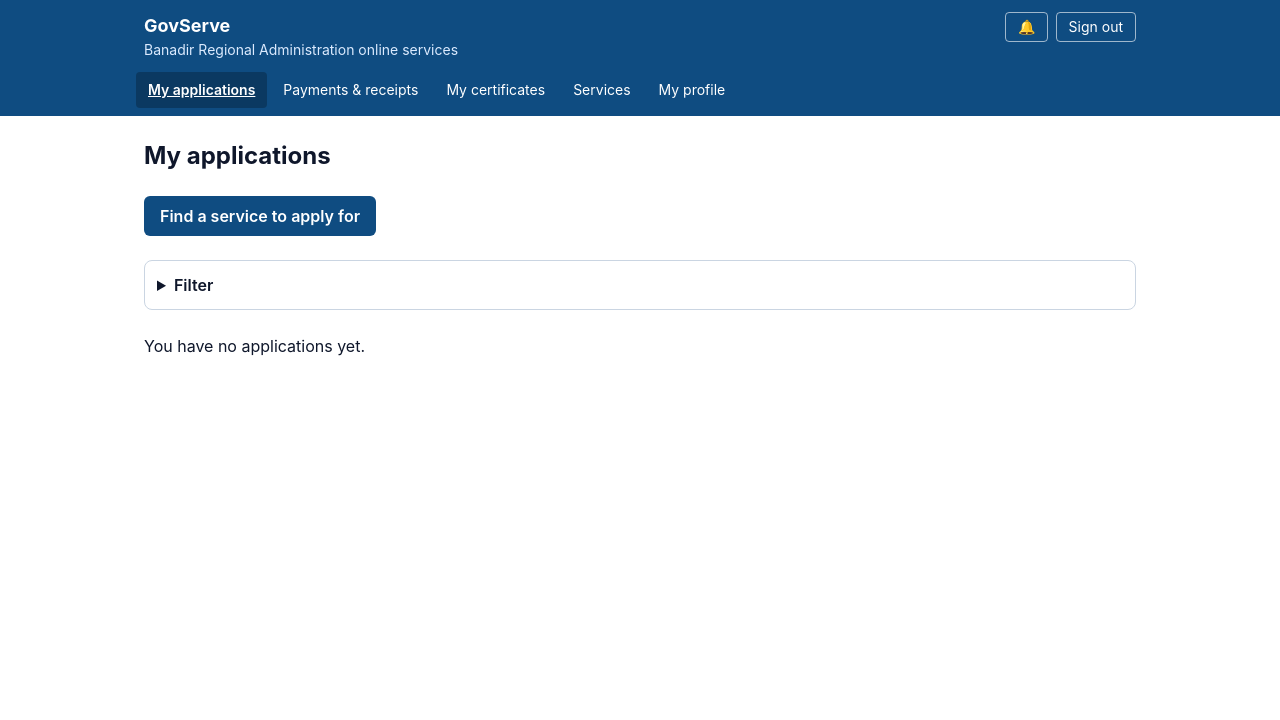
Test: citizen history › should filter my applications by status
Expected: the text "You have no applications yet." is shown, [144,336,365,356]
Click the heading "Filter". click: [194, 285]
box: [174,275,213,295]
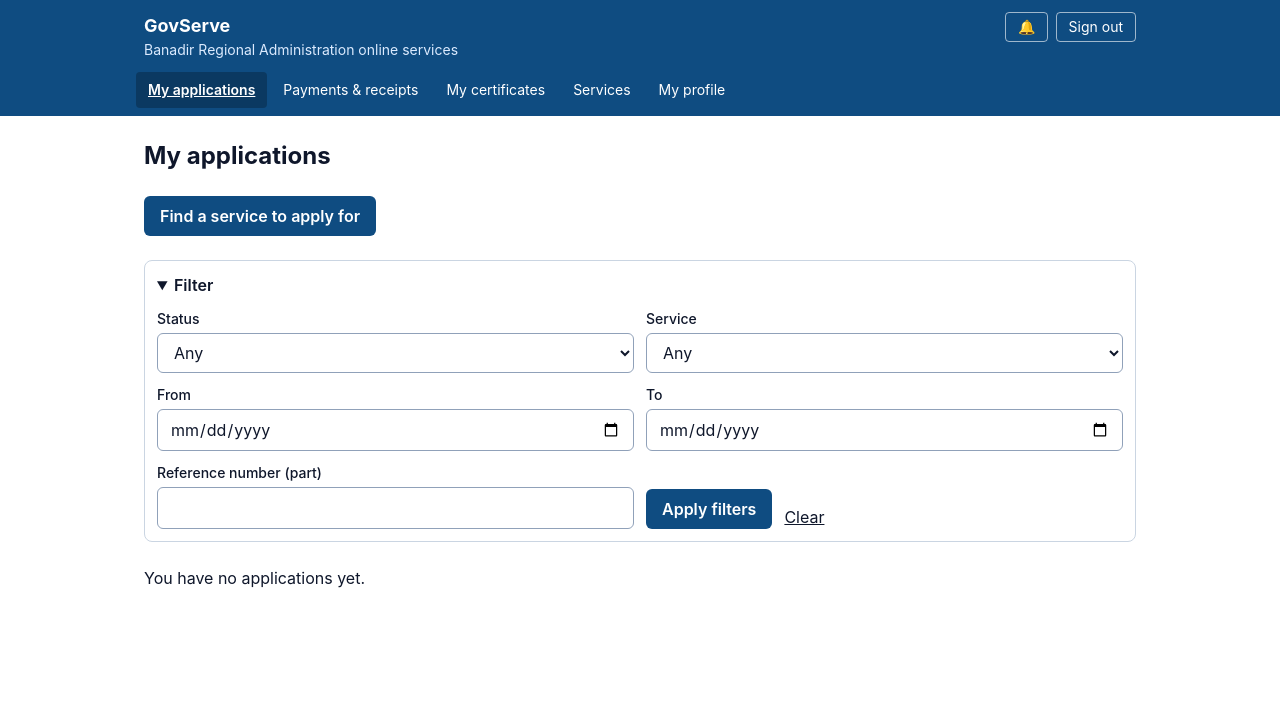
Select "Certificate issued" in the dropdown labelled "Status". click: [396, 353]
box: [157,333,634,373]
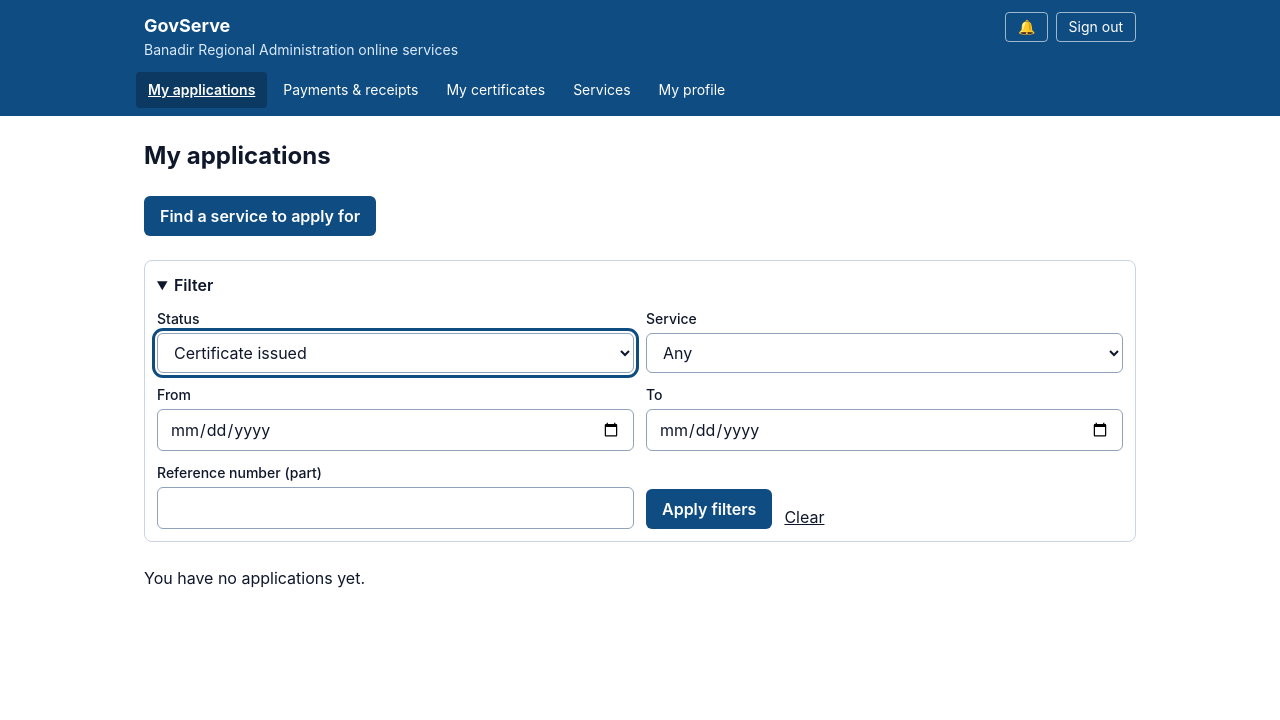
Click the button "Apply filters". click: [709, 509]
box: [646,489,772,529]
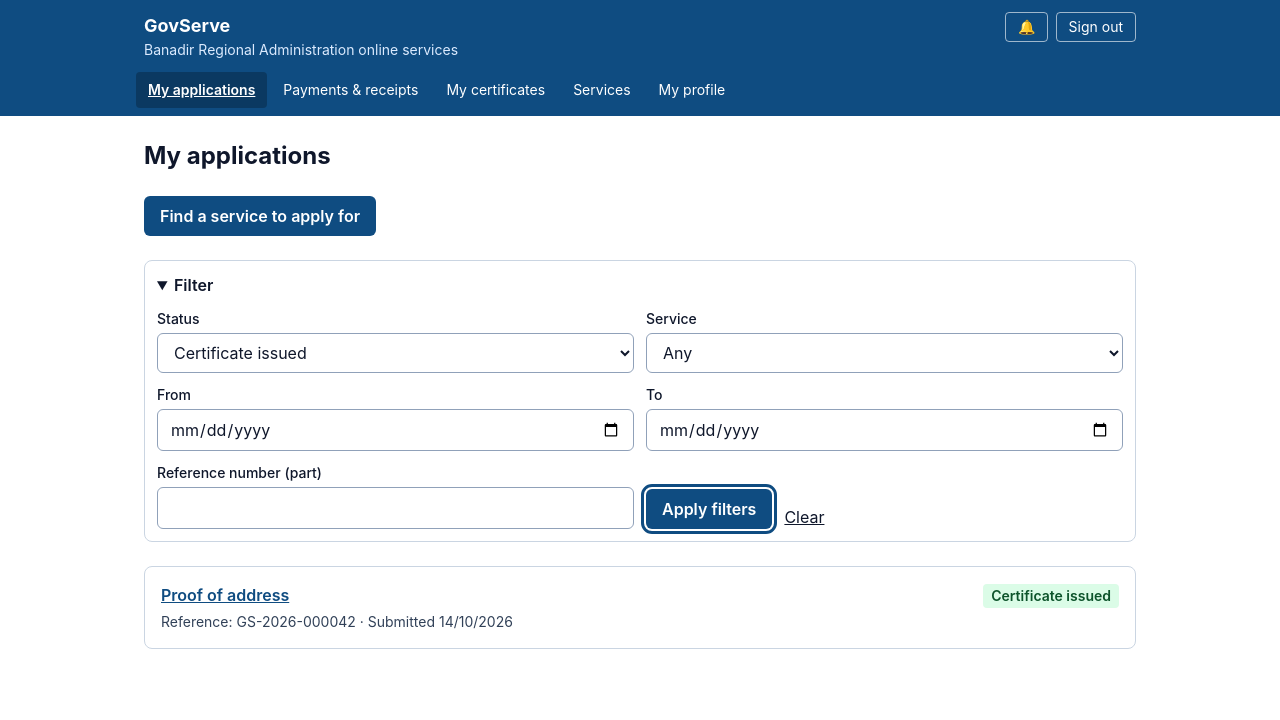
Expected: the link "Proof of address" is shown, [161,583,289,607]
